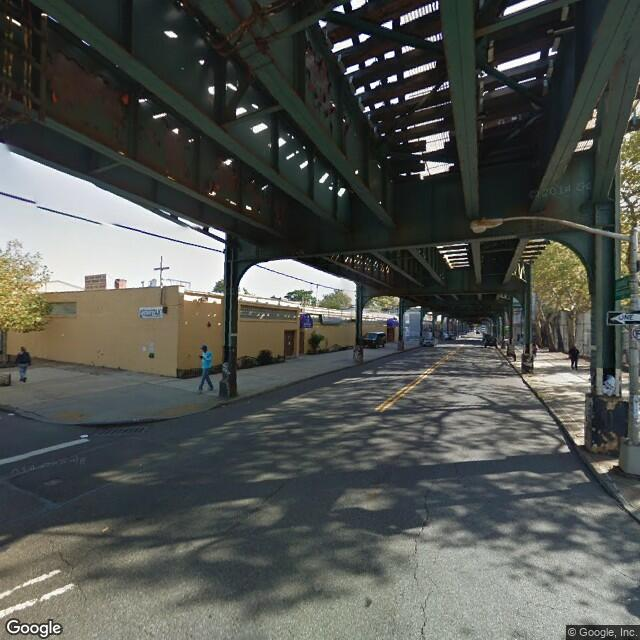litter: (79, 432, 90, 440), (5, 410, 17, 416)
